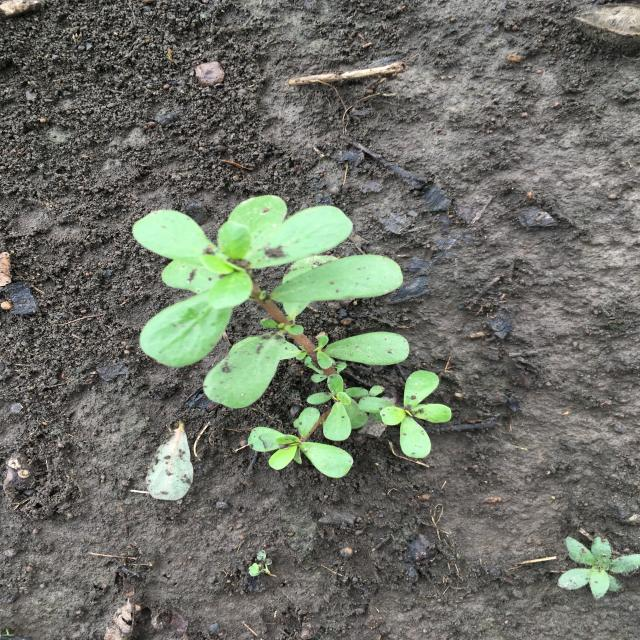Purslane: (132, 195, 452, 478)
